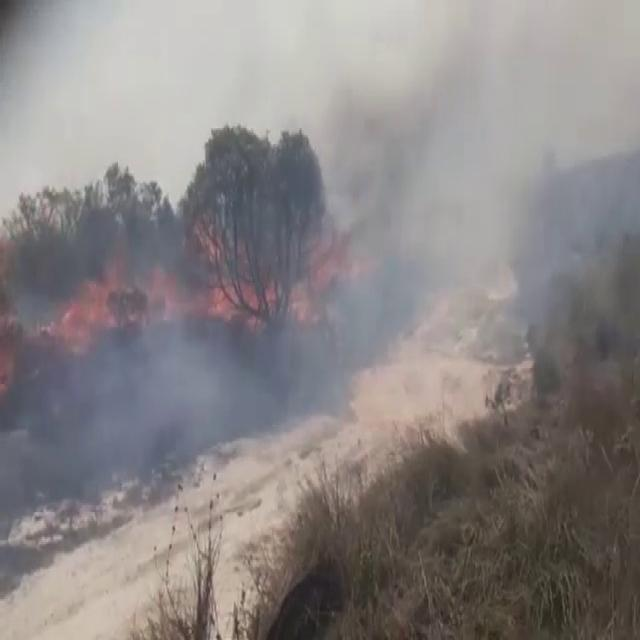Fire: (0, 235, 372, 366)
Smoke: (319, 12, 640, 324)
